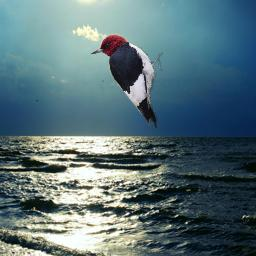Woodpecker: (86, 33, 163, 129)
